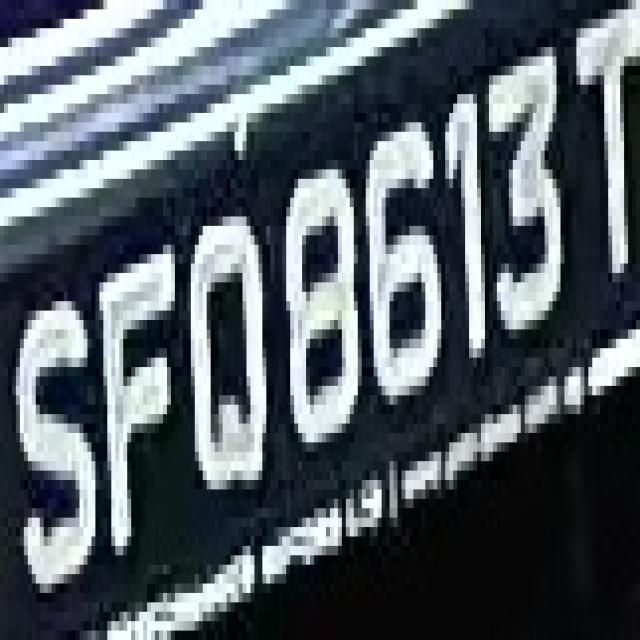1: (429, 85, 485, 386)
3: (477, 38, 568, 330)
6: (358, 94, 445, 414)
8: (270, 113, 362, 480)
F: (95, 198, 179, 564)
Q: (171, 188, 282, 499)
S: (4, 264, 99, 612)
T: (568, 19, 632, 329)
